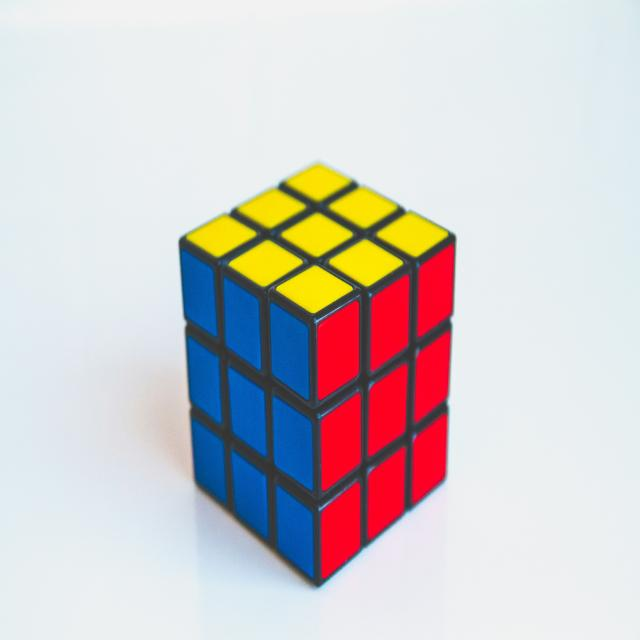Cubo-Resuelto: (176, 161, 458, 593)
